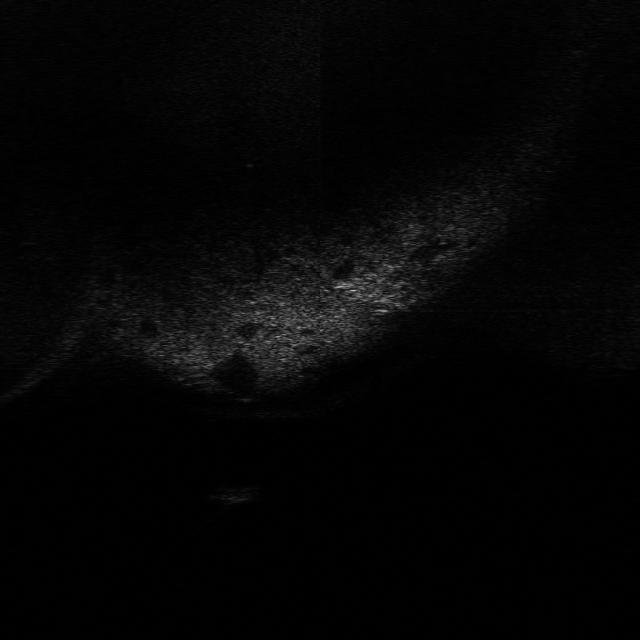cube: (204, 481, 264, 505)
